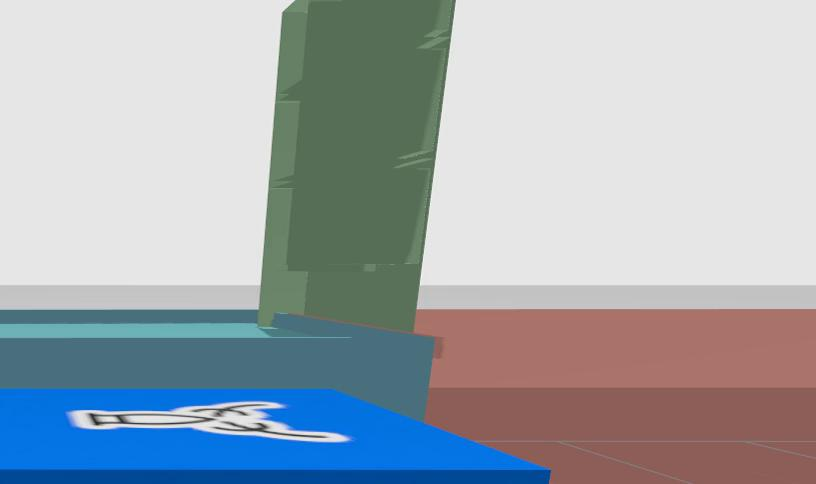KFS_REAL: (0, 388, 548, 484), (70, 401, 349, 441)
